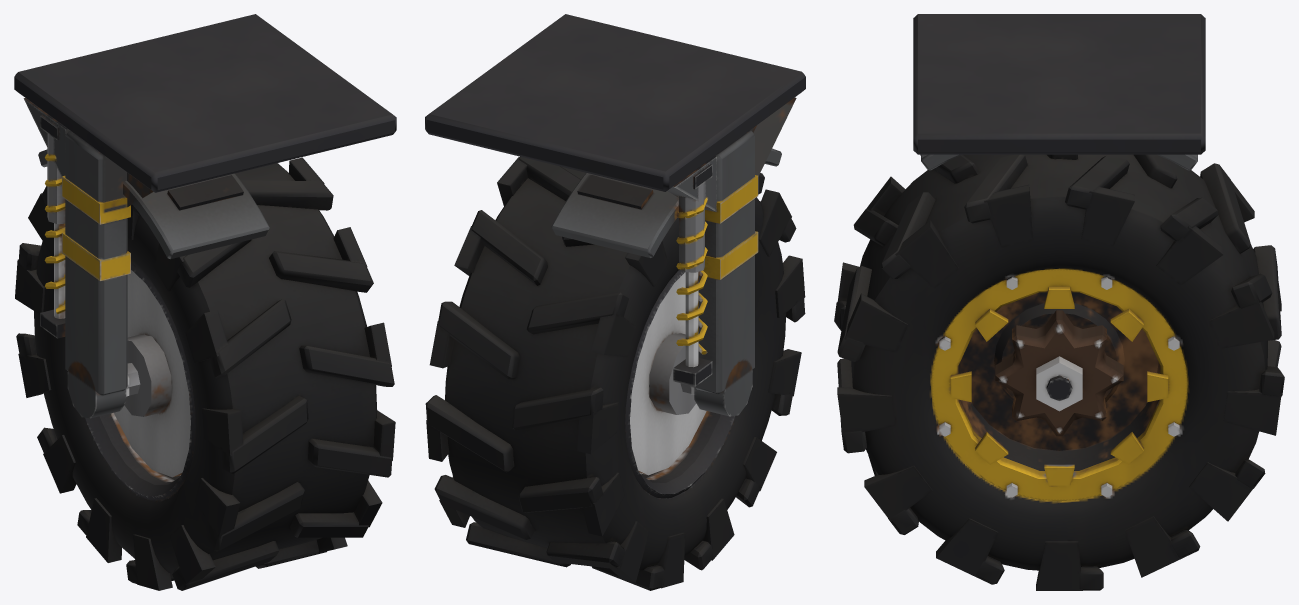
The model's file is R4M_Wheel.fbx.
The picture shows the model from 3 angles, left to right: view 1: azimuth 30°, elevation 25°; view 2: azimuth 150°, elevation 25°; view 3: azimuth 270°, elevation 25°; orthographic projection. The views are drawn at different scales.
Visible parts, largest first — view 1: R4M_Wheel_Rotor, R4M_Wheel_Mount; view 2: R4M_Wheel_Rotor, R4M_Wheel_Mount; view 3: R4M_Wheel_Rotor, R4M_Wheel_Mount.
Boxes of the visible parts, bbox=[...] form: R4M_Wheel_Rotor: bbox=[15, 157, 395, 590]; R4M_Wheel_Mount: bbox=[14, 14, 396, 418]; R4M_Wheel_Rotor: bbox=[425, 156, 805, 590]; R4M_Wheel_Mount: bbox=[425, 14, 805, 416]; R4M_Wheel_Rotor: bbox=[834, 154, 1284, 590]; R4M_Wheel_Mount: bbox=[913, 14, 1205, 170].
Bounding box in the file's own units: 0.504 × 0.9055 × 0.7711.
Materials: 1 (1 with a texture image).
